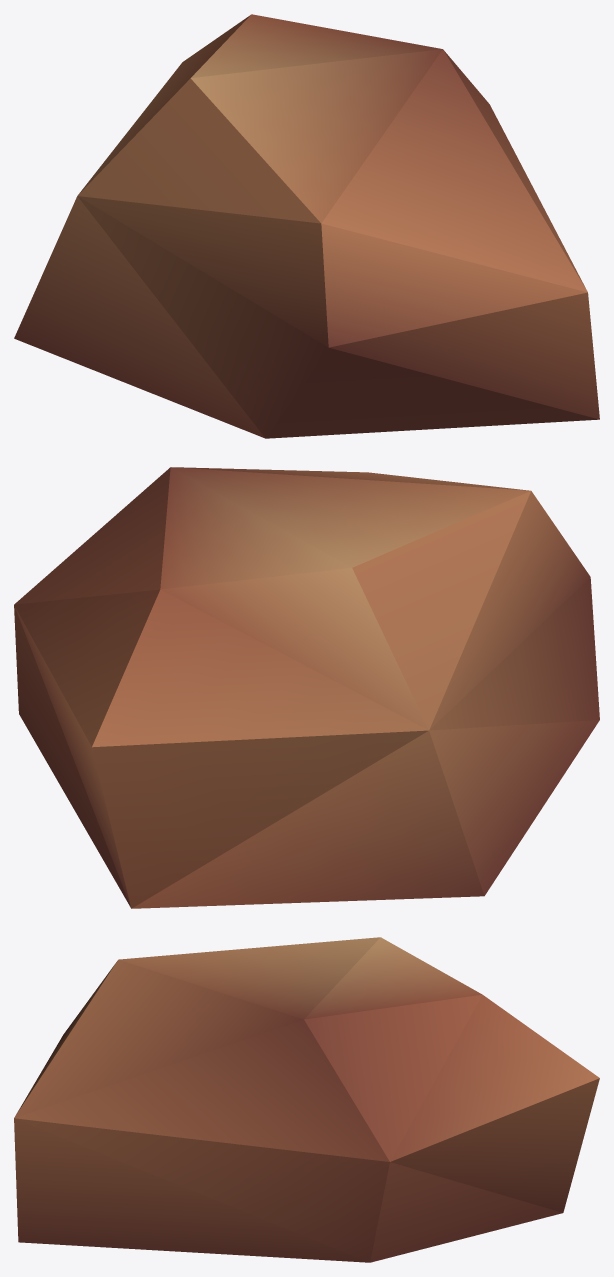
File: Mixed_Rock_01.fbx
The picture shows the model from 3 angles, top to bottom: view 1: azimuth 30°, elevation 25°; view 2: azimuth 150°, elevation 25°; view 3: azimuth 270°, elevation 25°; orthographic projection. The views are drawn at different scales.
Parts seen in each view (by area): view 1: Rock_01.001; view 2: Rock_01.001; view 3: Rock_01.001.
Part boxes in pixels (x1,y1,x2,y2): Rock_01.001: (14,14,599,438); Rock_01.001: (14,467,599,908); Rock_01.001: (14,937,599,1262).
Bounding box in the file's own units: 170 × 95.61 × 211.
